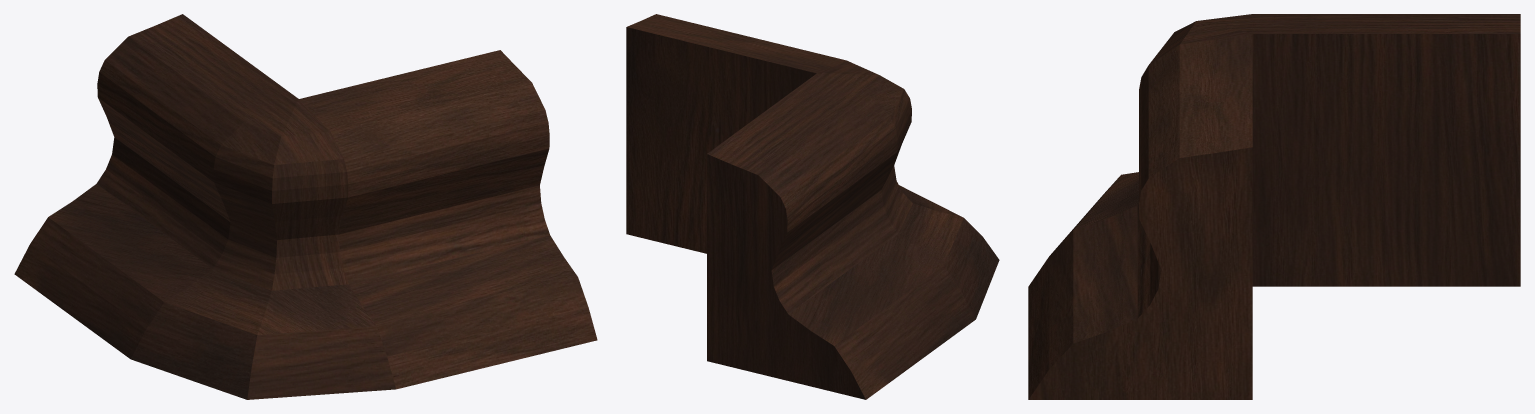
The model's file is plinthangleextern.fbx.
3 renders of one model, left to right at view 1: azimuth 30°, elevation 25°; view 2: azimuth 150°, elevation 25°; view 3: azimuth 270°, elevation 25°, orthographic. The views are drawn at different scales.
Visible parts, largest first — view 1: Cube.002; view 2: Cube.002; view 3: Cube.002.
Part boxes in pixels (left/top/right/bottom): Cube.002: left=14, top=14, right=597, bottom=399; Cube.002: left=626, top=14, right=999, bottom=399; Cube.002: left=1028, top=14, right=1520, bottom=399.
Size of the model in its own units: 22.95 by 13 by 22.95.
